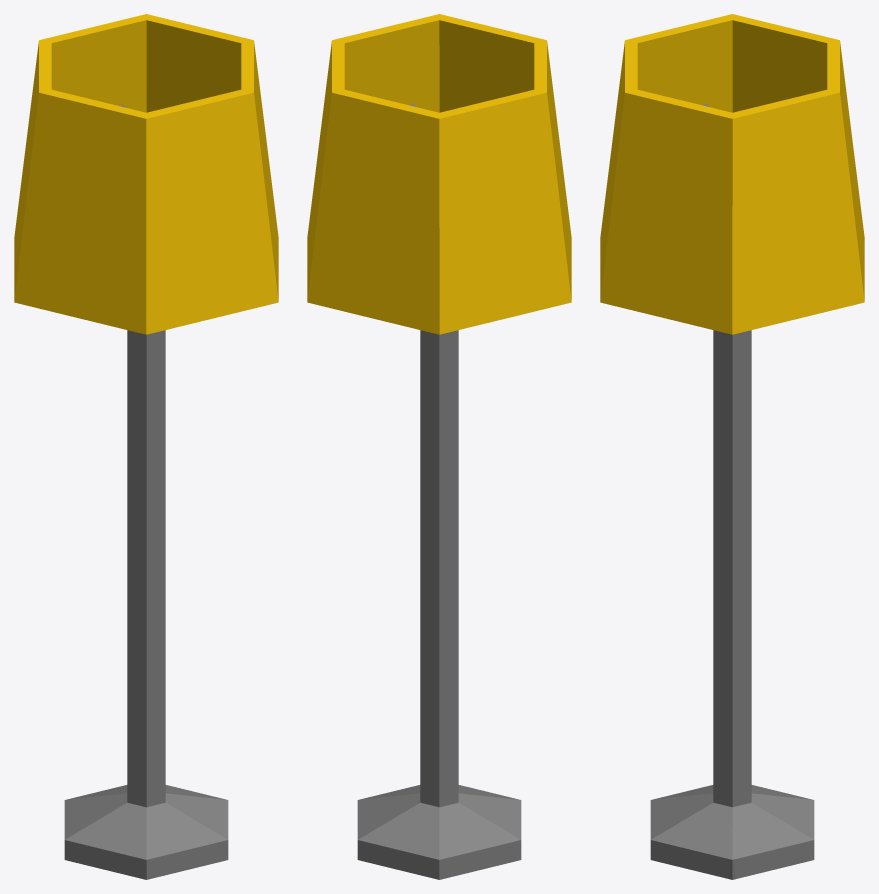
File: jalkalamppu_yellow.FBX
The picture shows the model from 3 angles, left to right: view 1: azimuth 30°, elevation 25°; view 2: azimuth 150°, elevation 25°; view 3: azimuth 270°, elevation 25°; orthographic projection.
Parts seen in each view (by area): view 1: jalkalamppu_yellow; view 2: jalkalamppu_yellow; view 3: jalkalamppu_yellow.
Boxes of the visible parts, x1,y1,x2,y2 form: jalkalamppu_yellow: (14, 14, 278, 879); jalkalamppu_yellow: (307, 14, 571, 879); jalkalamppu_yellow: (600, 14, 864, 879).
Size of the model in its own units: 83.91 by 235 by 72.67.
